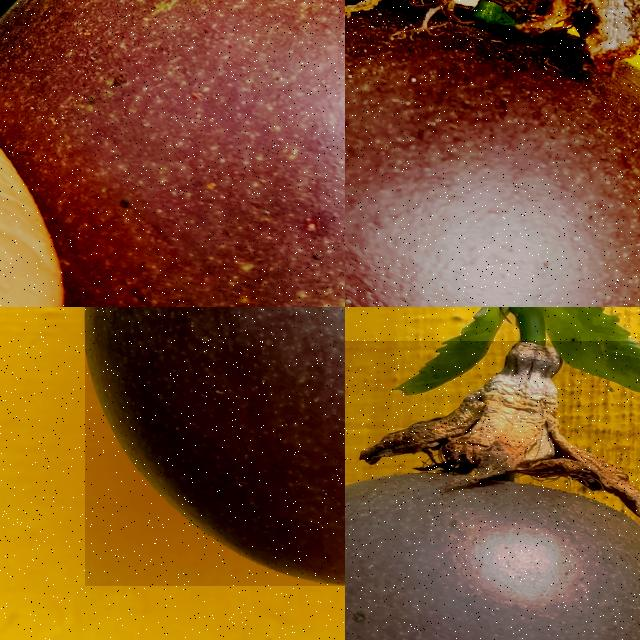Estado-5: (345, 0, 640, 307), (345, 342, 640, 640)
Estado-6: (85, 307, 345, 586)
